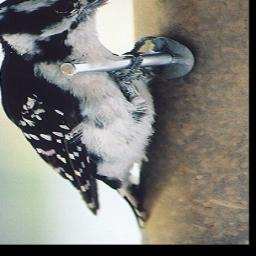Woodpecker: (0, 0, 167, 230)
